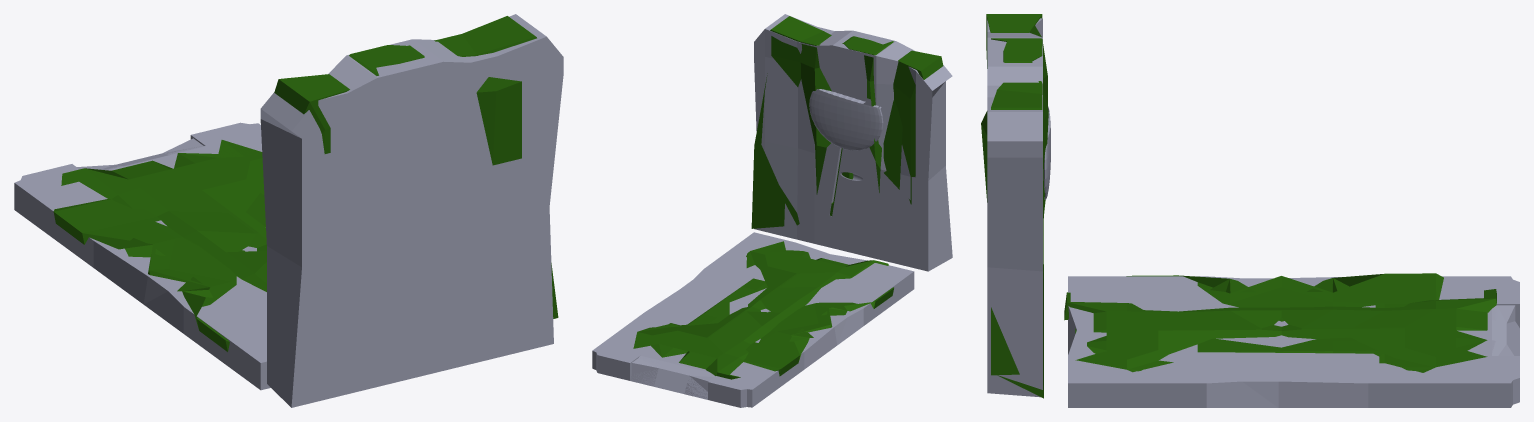
File: flower_grave_2.glb
3 views of the same model, side by side, from view 1: azimuth 30°, elevation 25°; view 2: azimuth 150°, elevation 25°; view 3: azimuth 270°, elevation 25° (orthographic). The views are drawn at different scales.
Parts seen in each view (by area): view 1: Cube, Cube.002, Cube.001, Cube.003; view 2: Cube, Cube.001, Cube.002, Cube.003; view 3: Cube.001, Cube.002, Cube, Cube.003.
Part boxes in pixels (box(x1,y1,x2,y2)): Cube: box(260, 14, 563, 407); Cube.002: box(53, 140, 266, 351); Cube.001: box(14, 122, 270, 390); Cube.003: box(274, 16, 558, 318); Cube: box(754, 14, 952, 271); Cube.001: box(592, 232, 914, 407); Cube.002: box(633, 241, 893, 379); Cube.003: box(751, 16, 943, 228); Cube.001: box(1068, 276, 1519, 407); Cube.002: box(1064, 273, 1496, 372); Cube: box(987, 18, 1050, 397); Cube.003: box(981, 14, 1048, 398).
Bounding box in the file's own units: 1.12 × 1.28 × 2.12.
